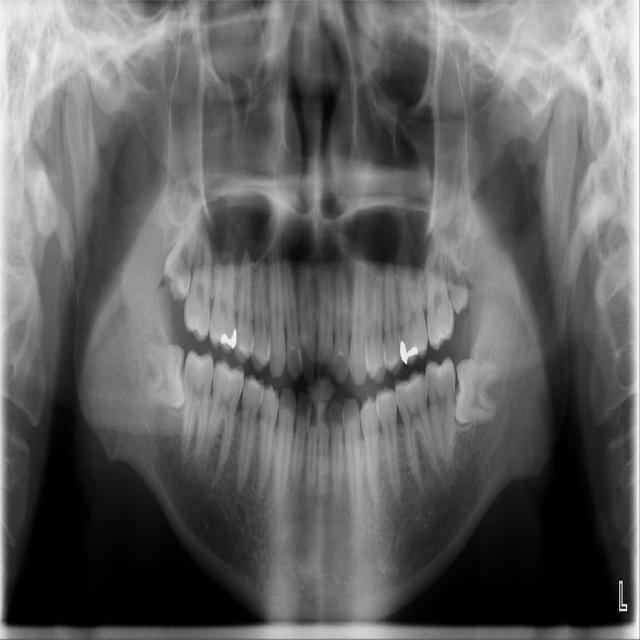Filling: (399, 335, 420, 363), (219, 328, 239, 353)
impacted tooth: (164, 203, 203, 297), (455, 358, 505, 425), (140, 343, 184, 408), (445, 246, 469, 314)
